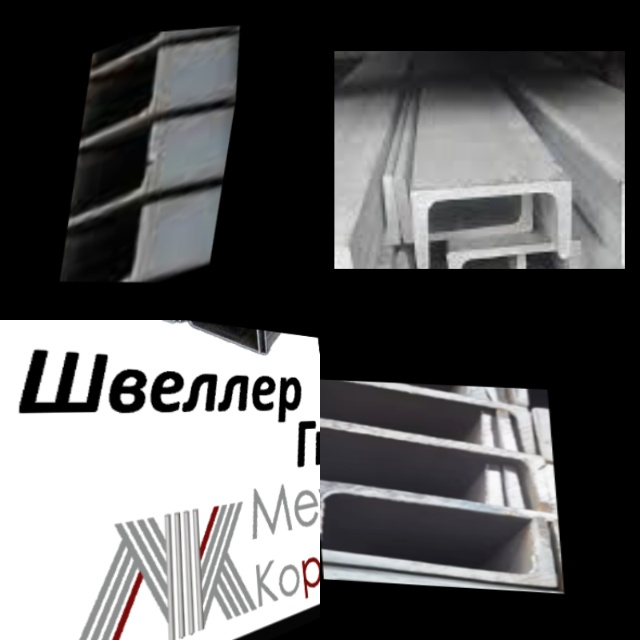Shveller: (320, 479, 552, 584), (320, 481, 563, 574), (320, 416, 549, 512), (320, 379, 535, 451), (320, 425, 501, 504), (415, 181, 569, 265), (320, 379, 488, 444), (62, 127, 160, 222), (73, 49, 167, 146), (323, 565, 564, 594), (402, 183, 527, 238), (56, 210, 151, 282), (323, 570, 560, 594), (320, 379, 502, 401), (501, 410, 555, 477), (87, 31, 165, 75), (503, 468, 559, 529), (452, 243, 580, 269), (320, 379, 483, 396), (189, 321, 269, 355), (181, 320, 260, 353), (510, 388, 550, 426), (405, 259, 524, 269)
